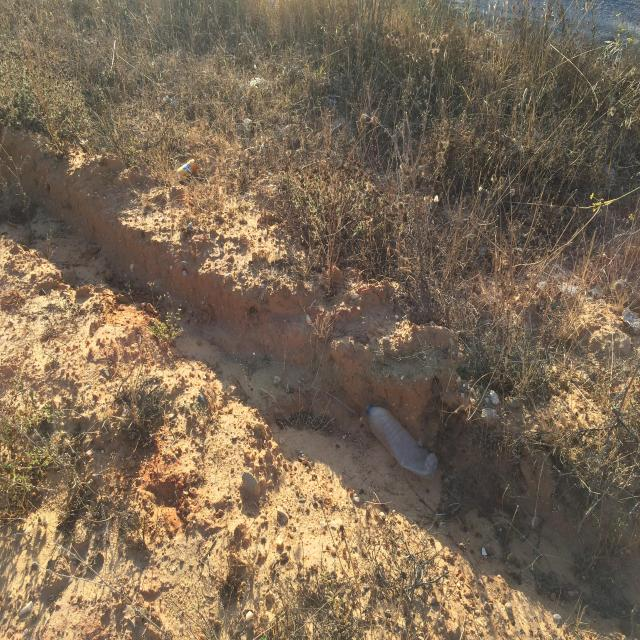litter: (365, 404, 437, 481), (176, 159, 197, 181), (482, 547, 487, 555)
